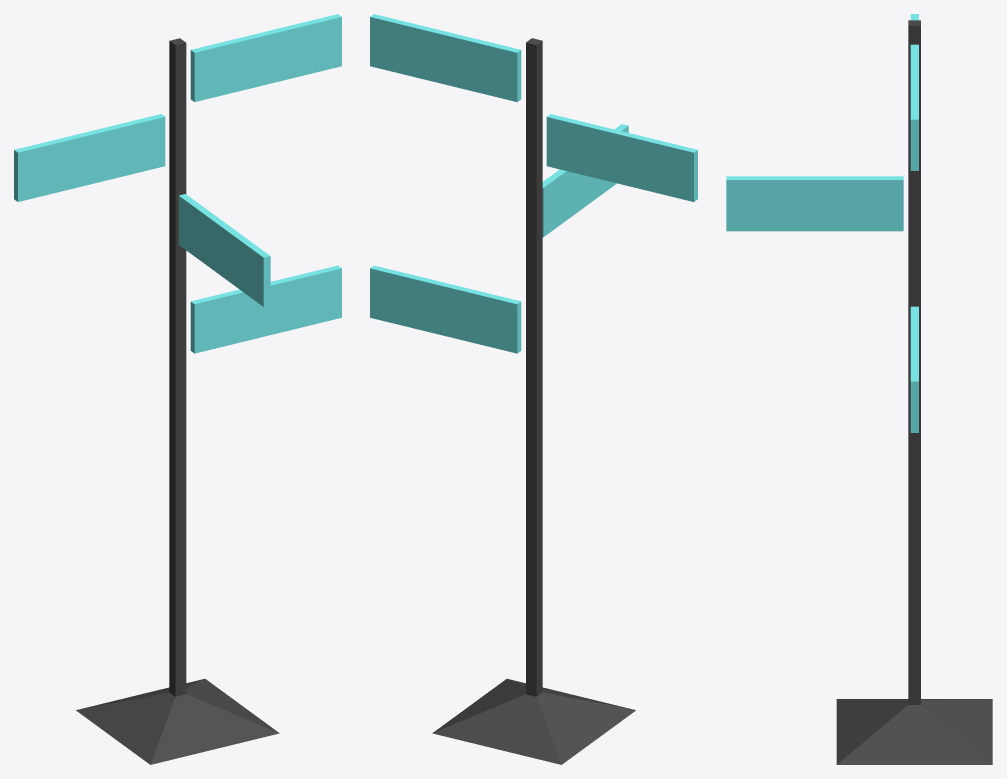
The model's file is Signpost_01.fbx.
3 renders of one model, left to right at view 1: azimuth 30°, elevation 25°; view 2: azimuth 150°, elevation 25°; view 3: azimuth 270°, elevation 25°, orthographic. The views are drawn at different scales.
Parts seen in each view (by area): view 1: Signpost_01; view 2: Signpost_01; view 3: Signpost_01.
Part boxes in pixels (x1,y1,x2,y2): Signpost_01: (14, 14, 341, 764); Signpost_01: (370, 14, 697, 764); Signpost_01: (726, 14, 992, 764).
Size of the model in its own units: 845 by 1696 by 577.
